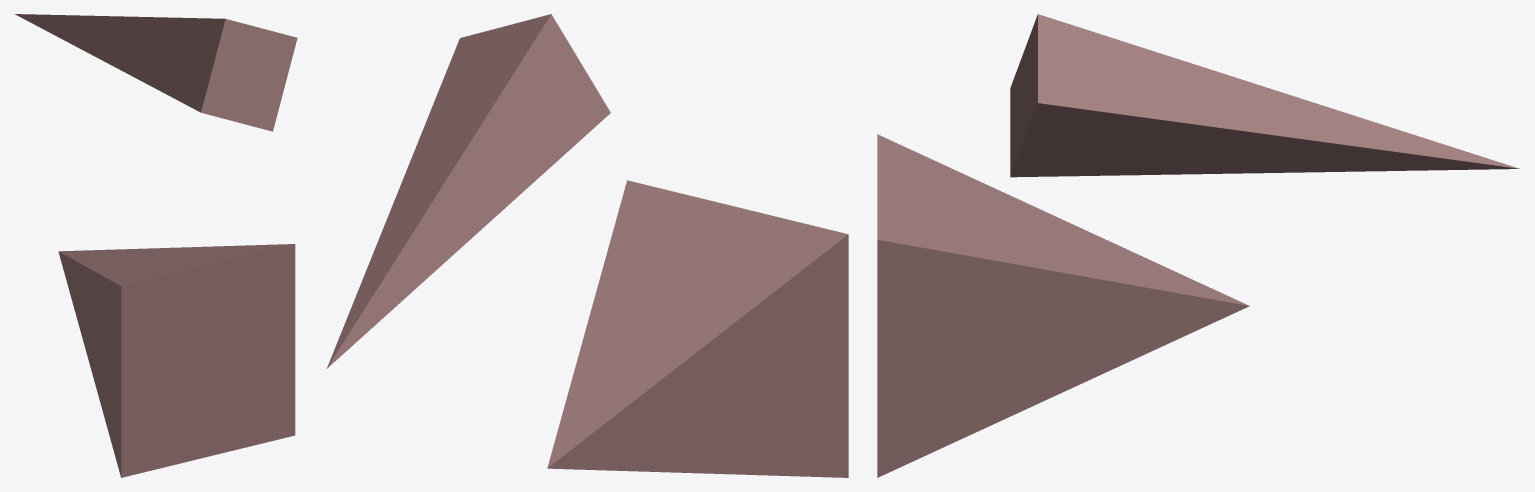
The model's file is pyramid_shouldpackchildren41940.gltf.
The picture shows the model from 3 angles, left to right: view 1: azimuth 30°, elevation 25°; view 2: azimuth 150°, elevation 25°; view 3: azimuth 270°, elevation 25°; orthographic projection. The views are drawn at different scales.
Visible parts, largest first — view 1: node_pyramid_shouldpackchildren, node_pyramidshouldnotexport; view 2: node_pyramid_shouldpackchildren, node_pyramidshouldnotexport; view 3: node_pyramid_shouldpackchildren, node_pyramidshouldnotexport.
Boxes of the visible parts, bbox=[...] form: node_pyramid_shouldpackchildren: bbox=[58, 244, 295, 477]; node_pyramidshouldnotexport: bbox=[15, 14, 297, 131]; node_pyramid_shouldpackchildren: bbox=[547, 180, 848, 477]; node_pyramidshouldnotexport: bbox=[326, 14, 610, 368]; node_pyramid_shouldpackchildren: bbox=[877, 134, 1249, 477]; node_pyramidshouldnotexport: bbox=[1010, 14, 1519, 177].
Size of the model in its own units: 1.18 by 1.73 by 2.19.
